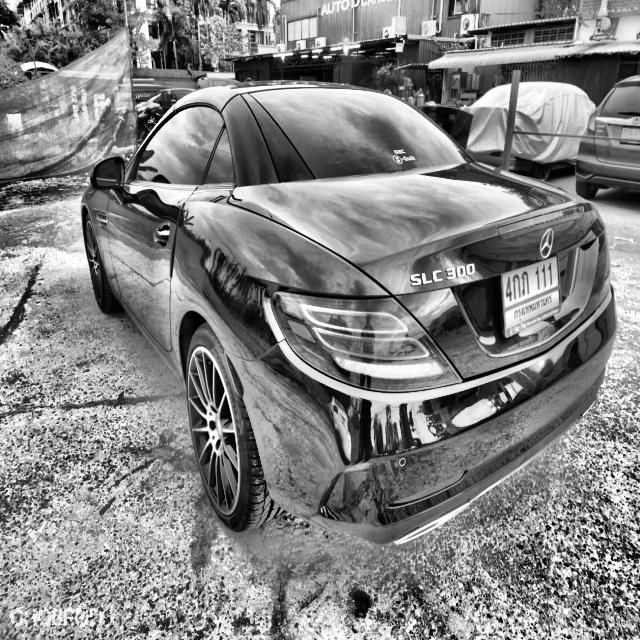license-plate: (493, 250, 570, 352)
